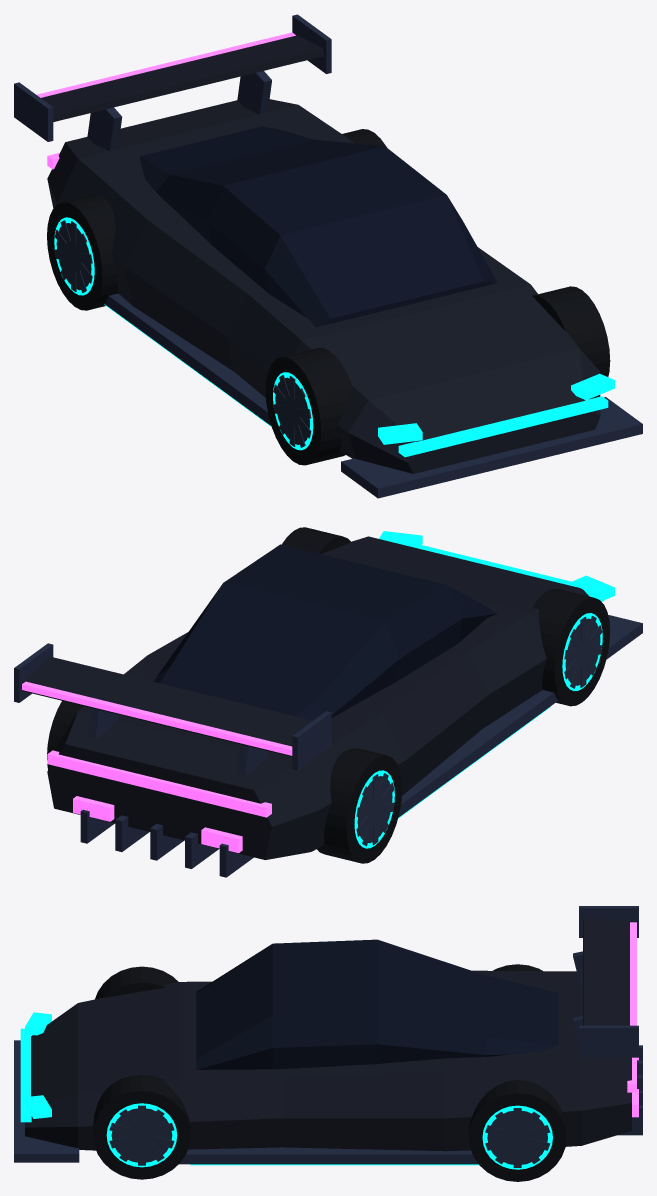
File: NeonDriftCar.fbx
3 renders of one model, top to bottom at view 1: azimuth 30°, elevation 25°; view 2: azimuth 150°, elevation 25°; view 3: azimuth 270°, elevation 25°, orthographic. The views are drawn at different scales.
Visible parts, largest first — view 1: Body, Wheel_FR, Wheel_RR, Wheel_FL; view 2: Body, Wheel_RR, Wheel_FR, Wheel_FL, Wheel_RL; view 3: Body, Wheel_FL, Wheel_RL, Wheel_FR.
Boxes of the visible parts, x1=… form: Body: x1=14, y1=14, x2=642, y2=498; Wheel_FR: x1=265, y1=348, x2=351, y2=465; Wheel_RR: x1=47, y1=195, x2=118, y2=310; Wheel_FL: x1=532, y1=286, x2=610, y2=376; Body: x1=14, y1=531, x2=642, y2=877; Wheel_RR: x1=317, y1=748, x2=402, y2=863; Wheel_FR: x1=532, y1=588, x2=610, y2=706; Wheel_FL: x1=282, y1=527, x2=351, y2=553; Wheel_RL: x1=47, y1=701, x2=83, y2=769; Body: x1=14, y1=906, x2=642, y2=1165; Wheel_FL: x1=93, y1=1074, x2=190, y2=1179; Wheel_RL: x1=468, y1=1080, x2=566, y2=1181; Wheel_FR: x1=95, y1=966, x2=178, y2=999.
Size of the model in its own units: 2.26 by 1.22 by 4.62.
